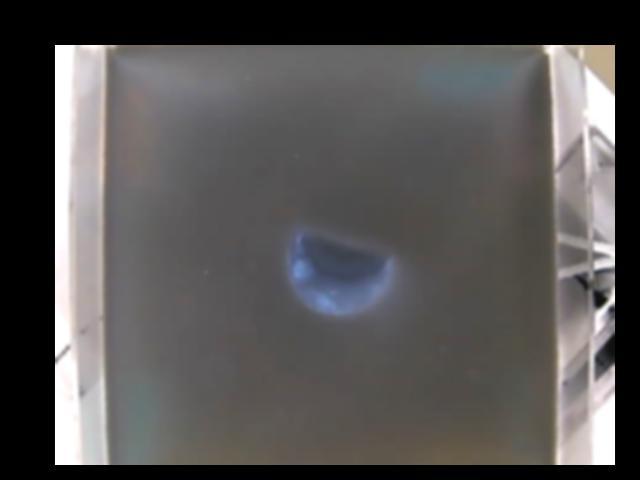Mooli: (285, 226, 391, 314)
